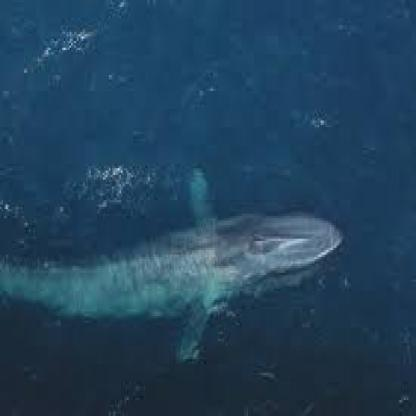blue_whale: (0, 152, 348, 357)
